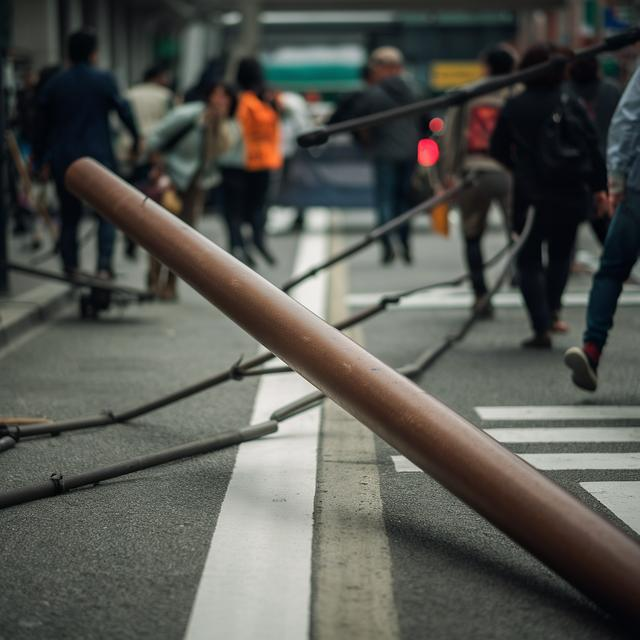Inclined Pole: (59, 157, 640, 639)
